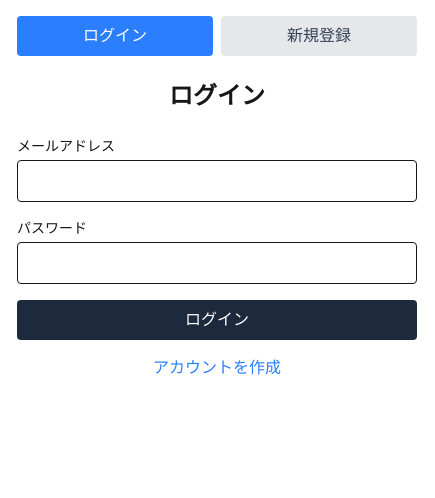
Scenario: AuthForm Component › 登録フォーム › should validate password requirements
Click the button "アカウントを作成". click: (217, 368)
box: [153,356,281,380]
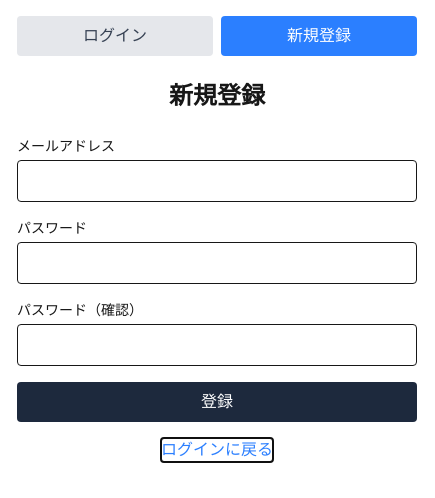
Type "test@example.com" into the field labelled "メールアドレス". click: (217, 181)
box: [17,160,417,202]
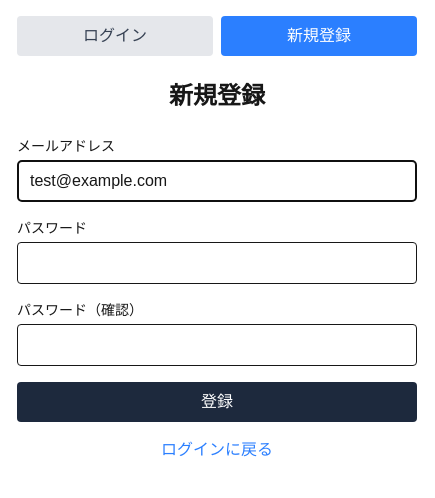
Type "Short1" into the password field labelled "パスワード". click: (217, 263)
box: [17,242,417,284]
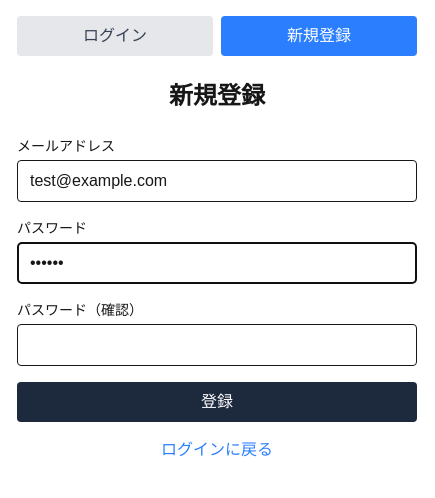
Type "Short1" into the password field labelled "パスワード（確認）". click: (217, 345)
box: [17,324,417,366]
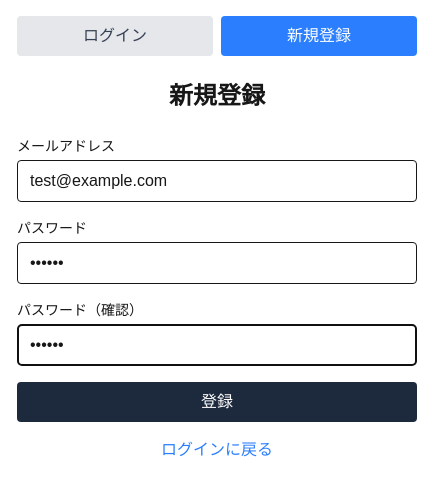
Click the button with test id "register-button". click: (217, 402)
box: [17,382,417,422]
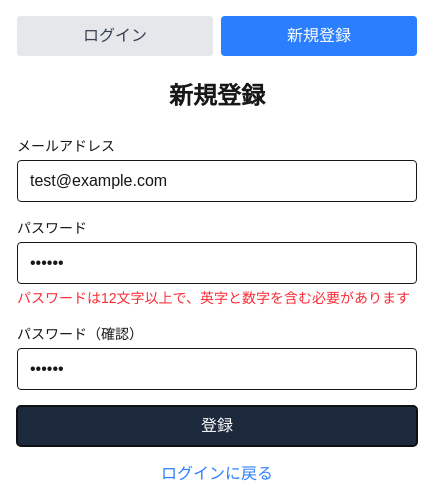
Expected: the text "パスワードは12文字以上で、英字と数字を含む必要があります" is shown, [17,288,417,308]
